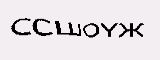А: (45, 24, 64, 46)
Г: (77, 18, 100, 44)
К: (103, 12, 129, 44)
Н: (60, 22, 78, 45)
Ю: (27, 22, 46, 43)
